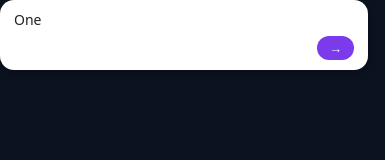
Test case: Bubble › calls onDone once after the last line and renders actions
Later steps or results of the test are not shown.
Expected: the button "Try again" is not shown
Click the button named "Next": click(336, 48) [317,36,354,60]
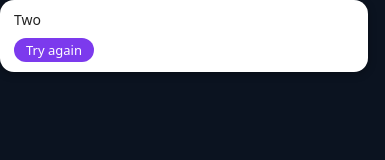
Now the button "Next" is gone
